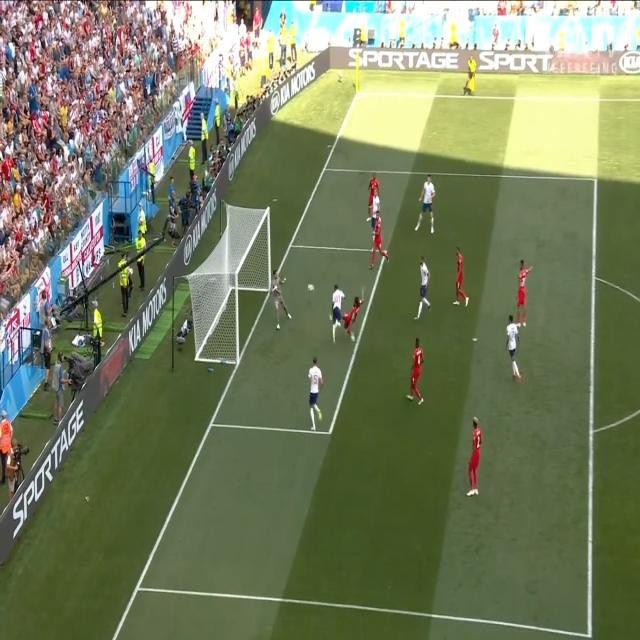ball: (307, 278, 314, 292)
player: (464, 412, 484, 501), (404, 335, 426, 408), (505, 310, 525, 386), (414, 172, 437, 234), (306, 353, 324, 432), (515, 252, 534, 326), (415, 249, 432, 322), (370, 213, 390, 273), (453, 241, 470, 311), (346, 286, 363, 344), (331, 277, 344, 345), (368, 174, 380, 195), (372, 194, 379, 217)
